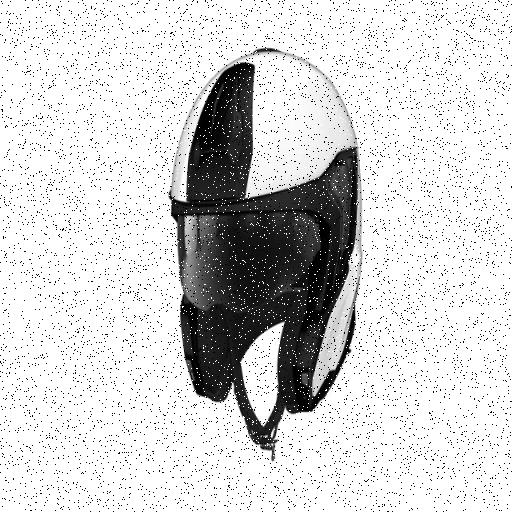Helmet: (175, 50, 366, 428)
